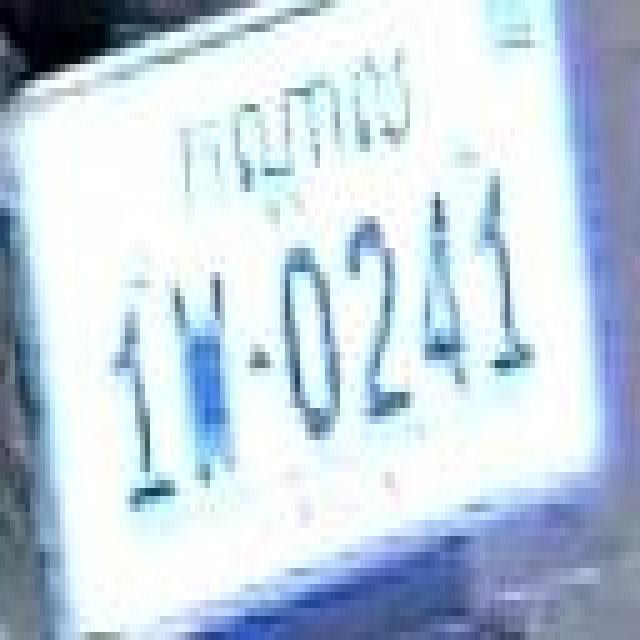Kandal: (175, 48, 416, 226)
